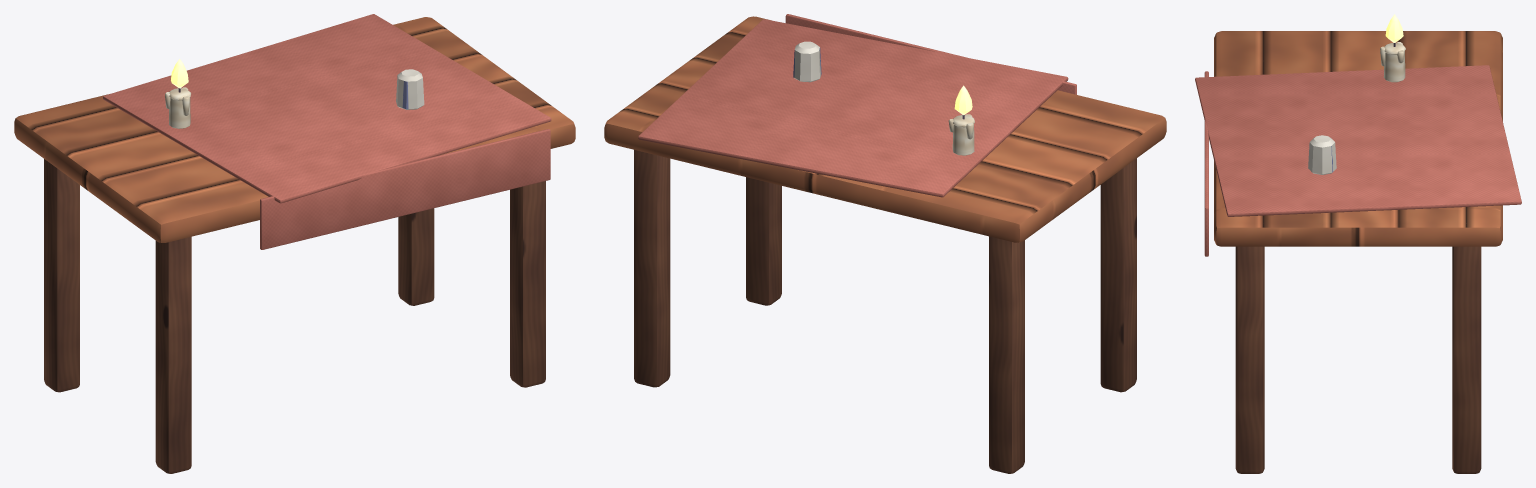
The model's file is tavern_table.gltf.
3 renders of one model, left to right at view 1: azimuth 30°, elevation 25°; view 2: azimuth 150°, elevation 25°; view 3: azimuth 270°, elevation 25°, orthographic. The views are drawn at different scales.
Visible parts, largest first — view 1: tavern_table_mesh; view 2: tavern_table_mesh; view 3: tavern_table_mesh, FLAME_candle.
Boxes of the visible parts, bbox=[...] form: tavern_table_mesh: bbox=[14, 14, 575, 473]; tavern_table_mesh: bbox=[604, 14, 1166, 473]; tavern_table_mesh: bbox=[1195, 31, 1521, 473]; FLAME_candle: bbox=[1385, 14, 1403, 42].
Size of what is drawn, in the model's own units: 1.3 by 0.997 by 0.905.
Materials: 8 (5 with a texture image).
